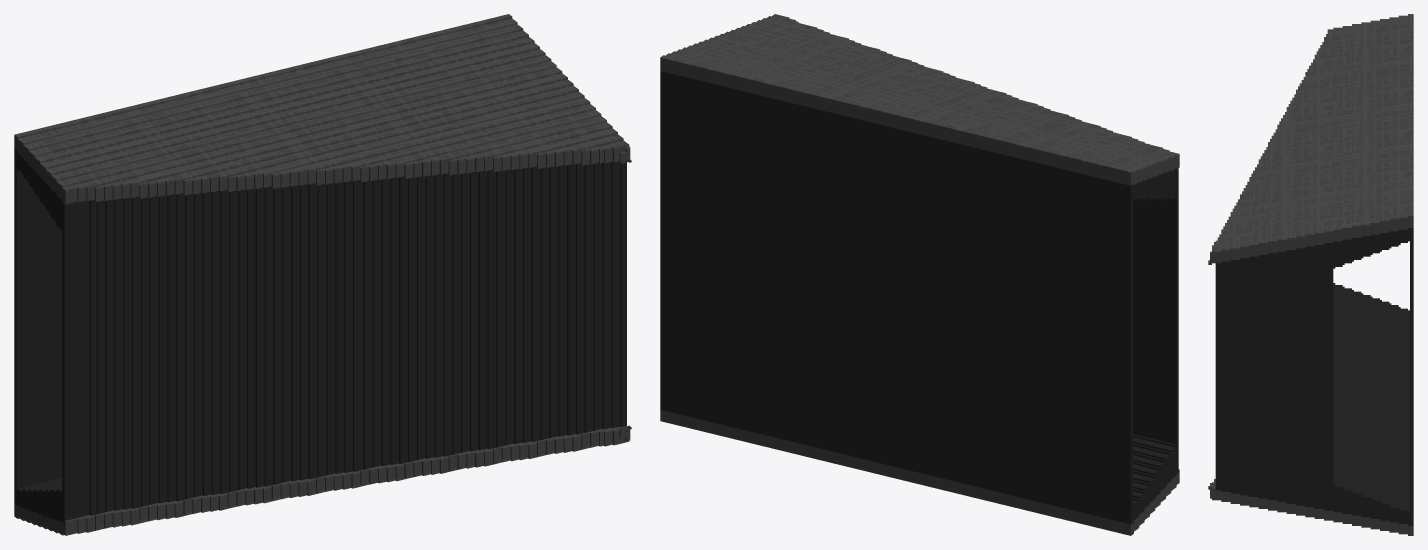
File: Space ship-18.obj
3 views of the same model, side by side, from view 1: azimuth 30°, elevation 25°; view 2: azimuth 150°, elevation 25°; view 3: azimuth 270°, elevation 25° (orthographic). The views are drawn at different scales.
Bounding box in the file's own units: 25.6 × 18.9 × 11.
1 material, 1 textured.
